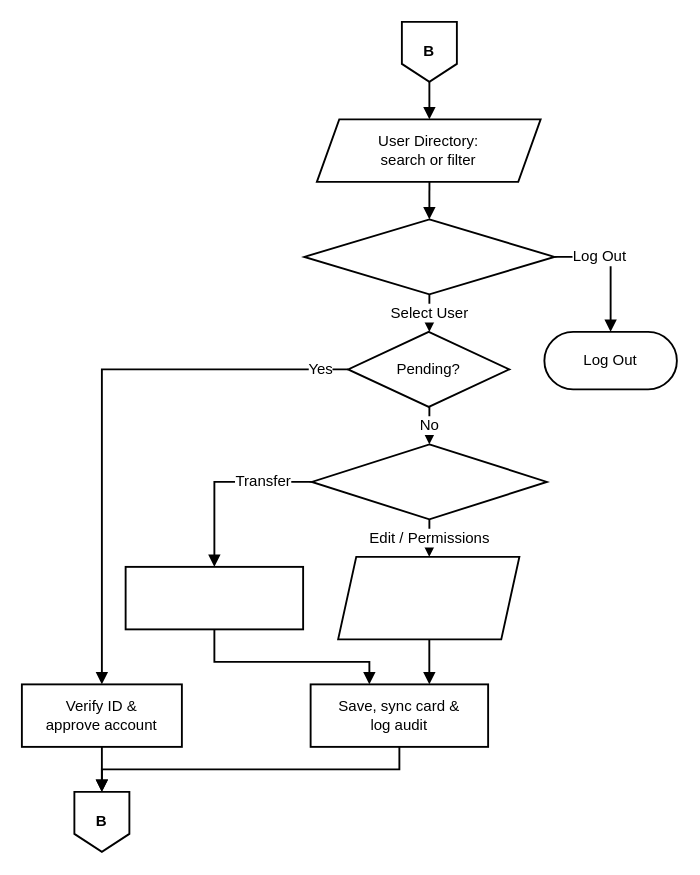
This 700x875 diagram has some shape labels left out. The centre of each missing label's shape, as x and y in pixels:
Admin action?: pixel 428 481
Edit role, status or permissions: pixel 428 597
Select action?: pixel 429 256
Set role to Super Administrator: pixel 214 597
